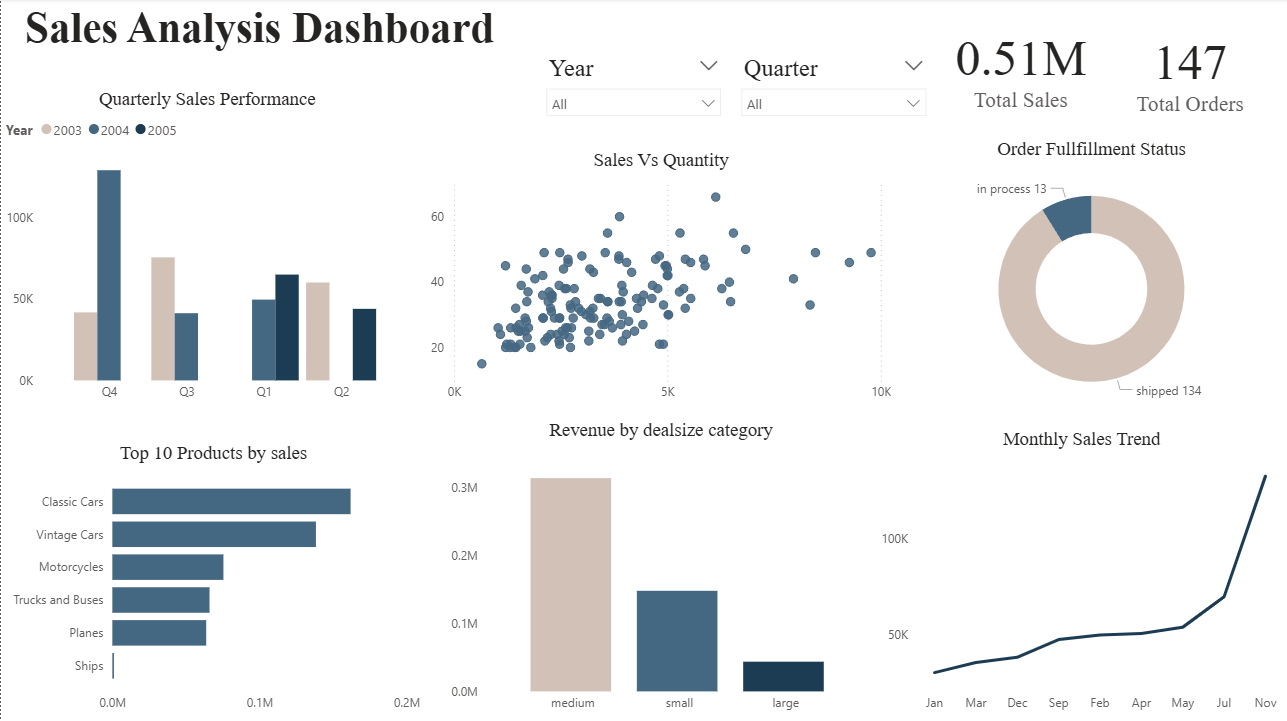

This screenshot's page, from the dashboard's own definition file:
{"tool":"powerbi","page":{"name":"Dashboard","canvas":[1280,720],"ordinal":0},"visuals":[{"type":"lineChart","title":"Monthly Sales Trend ","fields":{"Y":["Sum(cleaned_sales_data.sales)"],"Category":["cleaned_sales_data.Month"]},"box":[870.8,427.9,409.3,292.3],"z":0},{"type":"barChart","title":"Top 10 Products by sales","fields":{"Category":["cleaned_sales_data.productline"],"Y":["Sum(cleaned_sales_data.sales)"]},"box":[0,441.6,422.9,278.6],"z":2001},{"type":"donutChart","title":"Order Fullfillment Status","fields":{"Category":["cleaned_sales_data.status"],"Y":["CountNonNull(cleaned_sales_data.ordernumber)"]},"box":[890.7,139.3,389.4,279.9],"z":2002},{"type":"columnChart","title":"Revenue by dealsize category","fields":{"Category":["cleaned_sales_data.dealsize"],"Y":["Sum(cleaned_sales_data.sales)"]},"box":[442.8,419.2,427.9,301],"z":2003},{"type":"clusteredColumnChart","title":"Quarterly Sales Performance","fields":{"Y":["Sum(cleaned_sales_data.sales)"],"Category":["cleaned_sales_data.Quarter"],"Series":["cleaned_sales_data.Year"]},"box":[0,89.6,410.5,320.9],"z":2004},{"type":"card","fields":{"Values":["Sum(cleaned_sales_data.sales)"]},"box":[911.8,8.7,206.5,118.2],"z":2006},{"type":"card","fields":{"Values":["CountNonNull(cleaned_sales_data.sales)"]},"box":[1097.2,17.4,172.9,109.5],"z":2007},{"type":"scatterChart","title":"Sales Vs Quantity","fields":{"X":["cleaned_sales_data.sales"],"Y":["cleaned_sales_data.quantityordered"]},"box":[422.9,150.5,467.7,260],"z":2009},{"type":"slicer","fields":{"Values":["cleaned_sales_data.Year"]},"box":[532.4,51,194.1,75.9],"z":2011},{"type":"textbox","box":[0,0,515,79.6],"z":2012},{"type":"slicer","fields":{"Values":["cleaned_sales_data.Quarter"]},"box":[726.5,51,204,75.9],"z":2013}]}

Visuals, with their boxes in screenshot pixels (x1, y1, x2, y2), scaled from the page's 1280x720 canvas onto the 1287x721 screenshot:
"Monthly Sales Trend " lineChart: 876:428:1286:720
"Top 10 Products by sales" barChart: 0:442:425:720
"Order Fullfillment Status" donutChart: 896:139:1286:420
"Revenue by dealsize category" columnChart: 445:420:875:720
"Quarterly Sales Performance" clusteredColumnChart: 0:90:413:411
card - Sum(cleaned_sales_data.sales): 917:9:1124:127
card - CountNonNull(cleaned_sales_data.sales): 1103:17:1277:127
"Sales Vs Quantity" scatterChart: 425:151:895:411
slicer - cleaned_sales_data.Year: 535:51:730:127
textbox: 0:0:518:80
slicer - cleaned_sales_data.Quarter: 730:51:936:127
